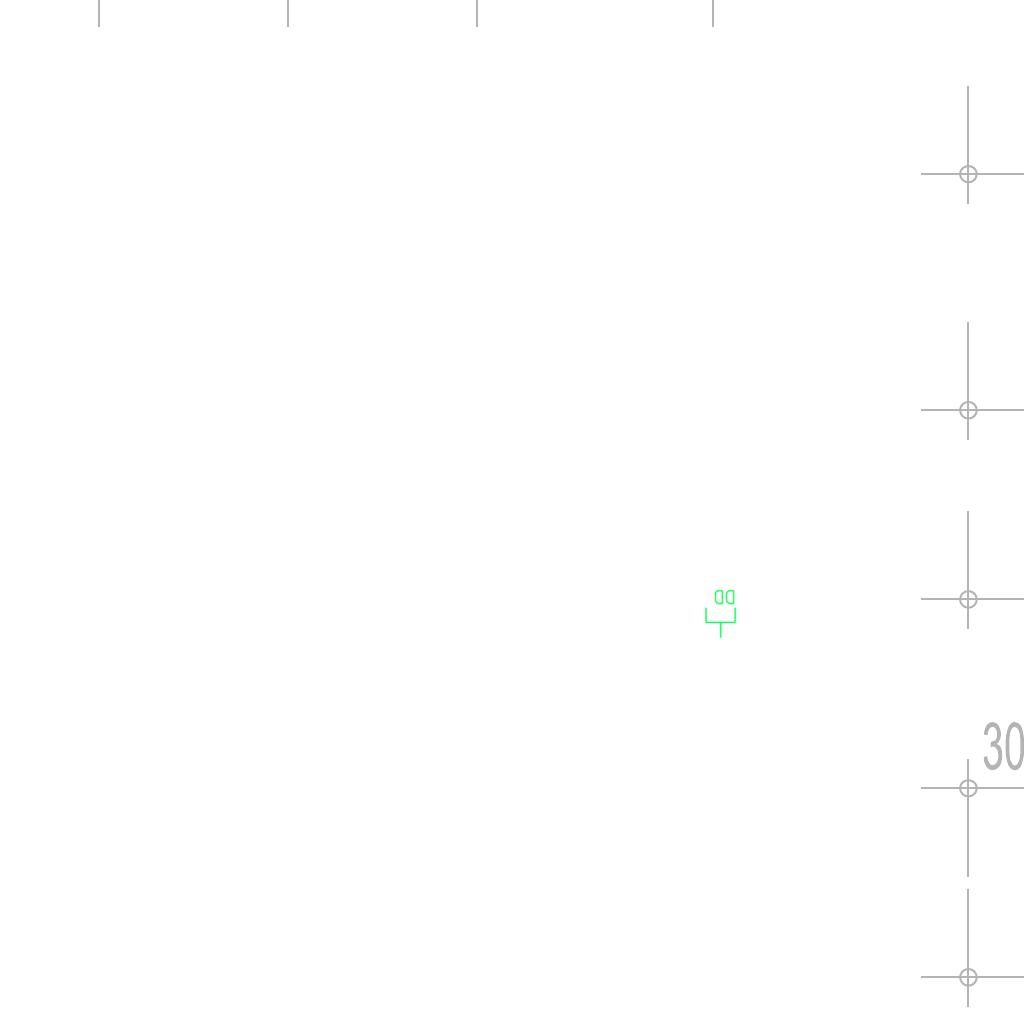Datenanschluss_zweifach: (704, 588, 738, 639)
